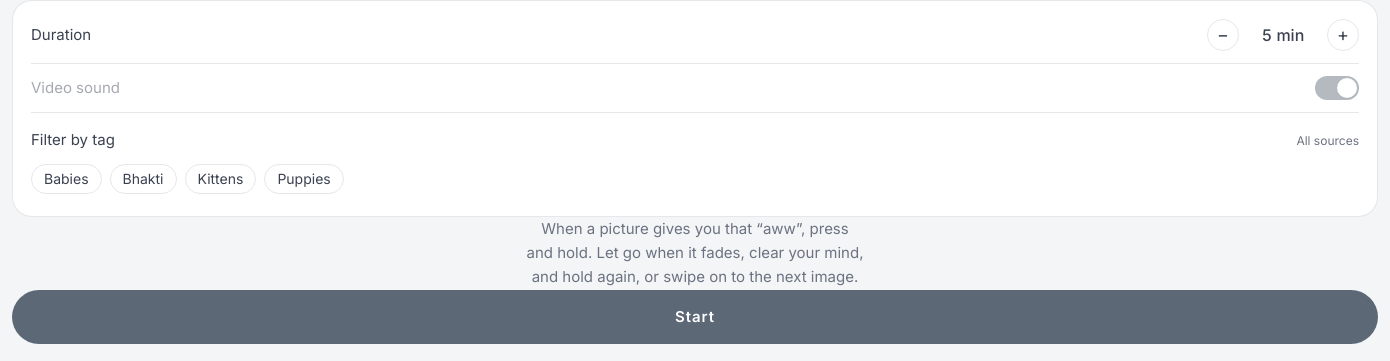
Test: PracticeScreen start guard › blocks Start when the filter matches nothing
The image size is (1390, 361).
Click the button "Kittens".
click(220, 178)  # box top-left (184, 164), bottom-right (256, 194)
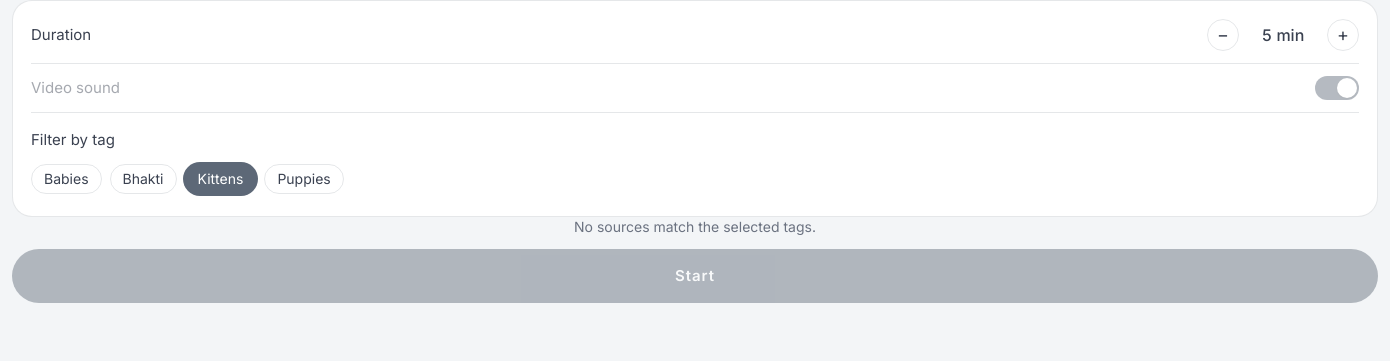
Check: the button "Start" is disabled, box top-left (12, 248), bottom-right (1378, 303)
Check: the text "No sources match the selected tags." is shown, box top-left (574, 218), bottom-right (816, 234)
